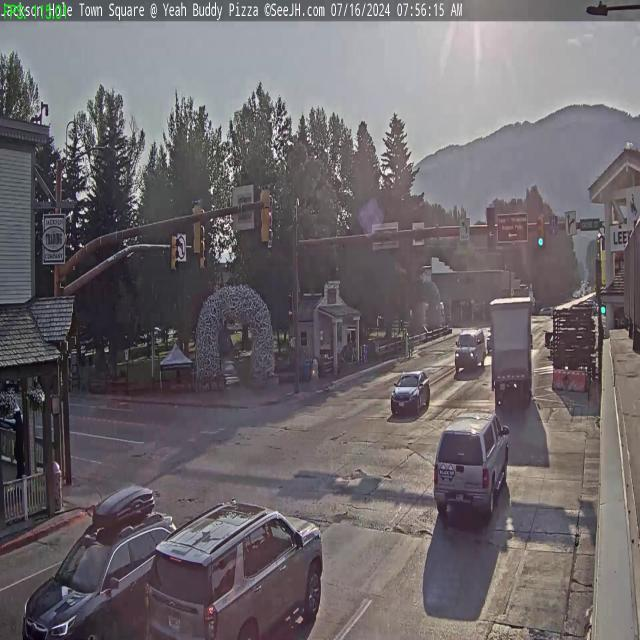sedan: (389, 366, 430, 417)
suv: (143, 494, 328, 640), (24, 496, 175, 640), (433, 406, 509, 524)
traffic light: (490, 294, 535, 412), (190, 199, 204, 256), (259, 185, 272, 245), (486, 207, 497, 250), (171, 234, 179, 273), (537, 214, 545, 247)
van: (454, 326, 487, 373)
